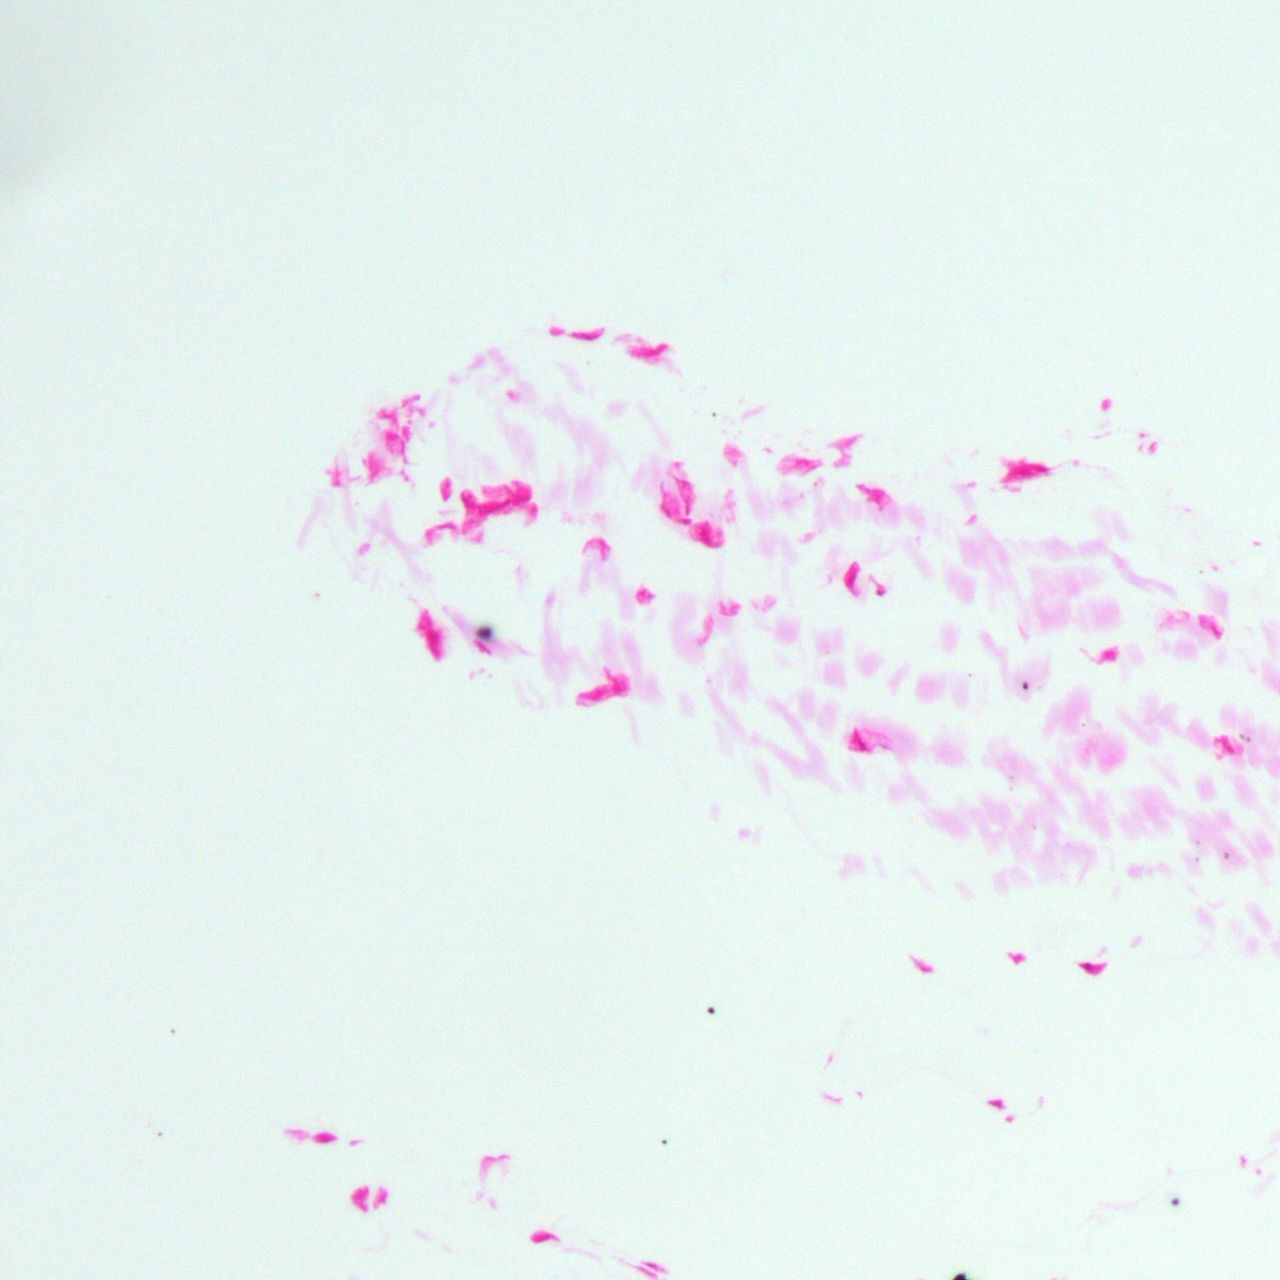dust: (476, 627, 491, 639), (1170, 1197, 1178, 1206), (1223, 851, 1230, 860), (1194, 839, 1201, 847), (1022, 681, 1028, 690), (1194, 855, 1200, 864), (708, 1007, 715, 1014), (1032, 824, 1039, 830), (169, 1027, 176, 1033), (967, 673, 975, 678), (156, 1131, 162, 1137), (712, 411, 716, 418), (1080, 723, 1085, 728), (660, 1139, 666, 1144), (1239, 733, 1244, 738), (1246, 735, 1251, 741), (1007, 785, 1013, 789), (355, 501, 359, 505), (314, 592, 319, 595), (1009, 775, 1012, 779)
nucleus-FG: (421, 627, 447, 663), (907, 955, 937, 978), (629, 343, 669, 358), (850, 726, 869, 753), (472, 638, 493, 658), (352, 1186, 367, 1211), (842, 567, 859, 587), (642, 1259, 663, 1274), (635, 1264, 656, 1279), (1024, 463, 1050, 475), (571, 332, 598, 340), (699, 539, 722, 549), (871, 488, 883, 506), (1208, 622, 1221, 639), (459, 493, 470, 513), (1221, 736, 1233, 754), (478, 506, 497, 517), (316, 1136, 338, 1144), (436, 522, 454, 531), (985, 1099, 1007, 1107), (533, 1234, 556, 1241), (635, 588, 652, 598), (659, 505, 670, 518), (1009, 953, 1023, 964), (794, 458, 810, 467), (610, 676, 618, 692), (1080, 962, 1092, 971), (501, 499, 510, 508), (697, 529, 707, 537), (679, 518, 692, 524), (442, 490, 449, 501), (676, 479, 687, 486), (520, 495, 530, 502), (685, 501, 689, 515)
